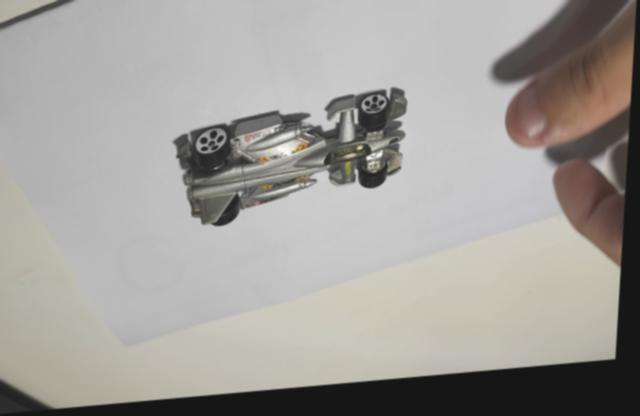05_DC121: (174, 93, 410, 230)
